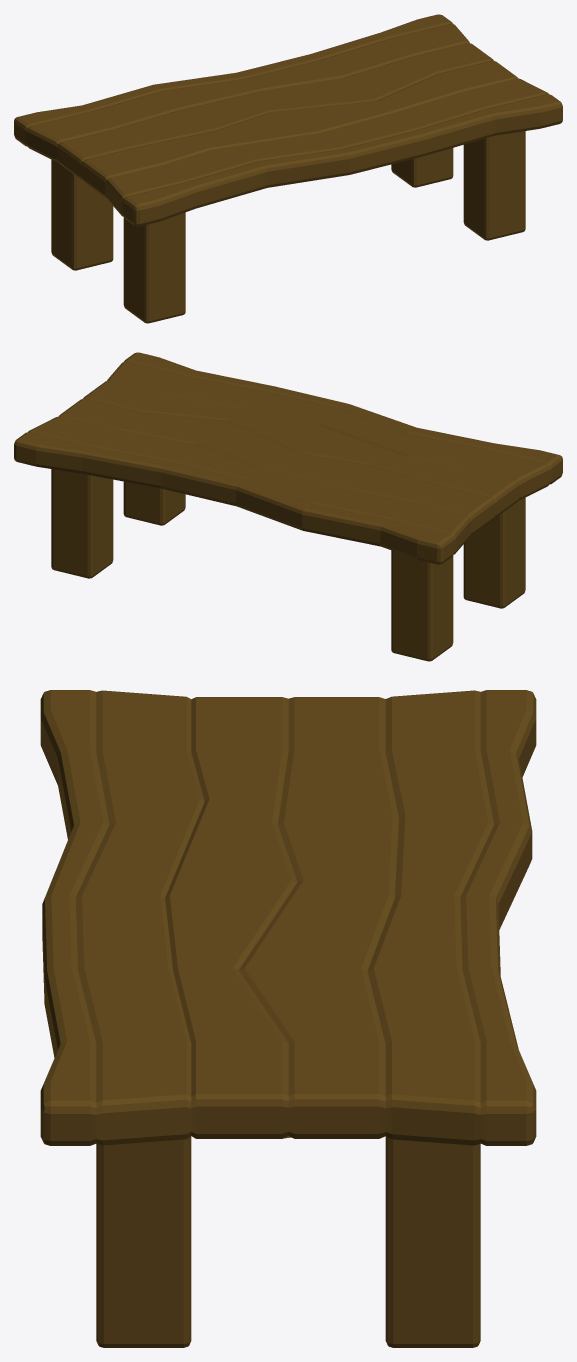
Rendered from Table.fbx.
The picture shows the model from 3 angles, top to bottom: view 1: azimuth 30°, elevation 25°; view 2: azimuth 150°, elevation 25°; view 3: azimuth 270°, elevation 25°; orthographic projection. The views are drawn at different scales.
Parts seen in each view (by area): view 1: Cube.002; view 2: Cube.002; view 3: Cube.002.
Part boxes in pixels (left/top/right/bottom): Cube.002: left=14, top=14, right=562, bottom=323; Cube.002: left=14, top=352, right=562, bottom=661; Cube.002: left=40, top=690, right=536, bottom=1347.
Size of the model in its own units: 200 by 60 by 100.
